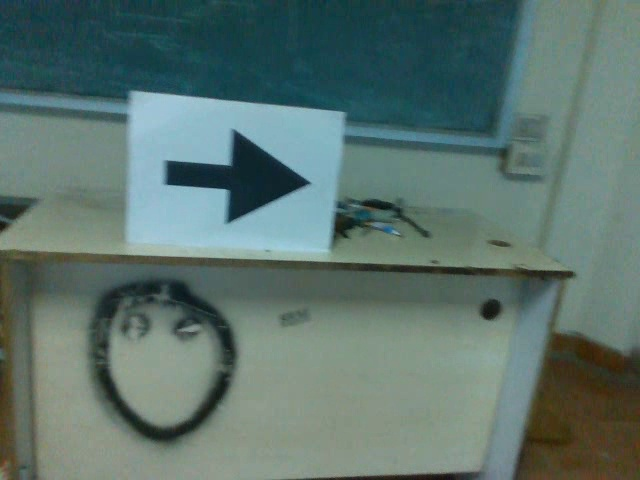Right: (150, 119, 319, 230)
